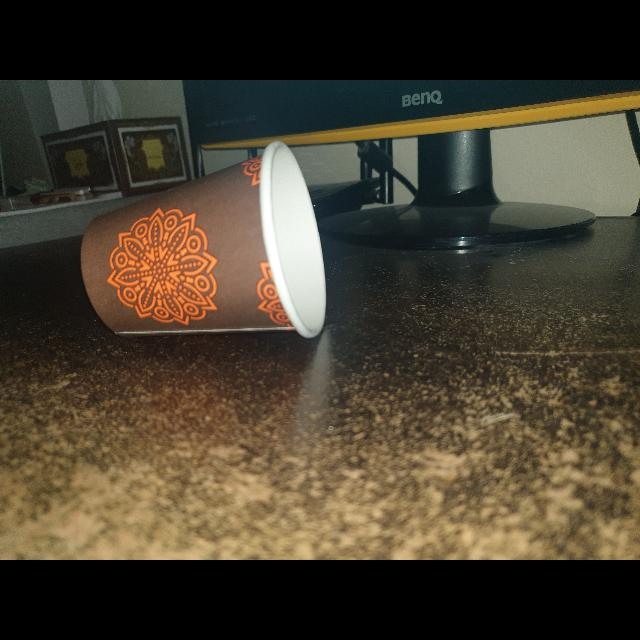trash: (72, 132, 336, 358)
